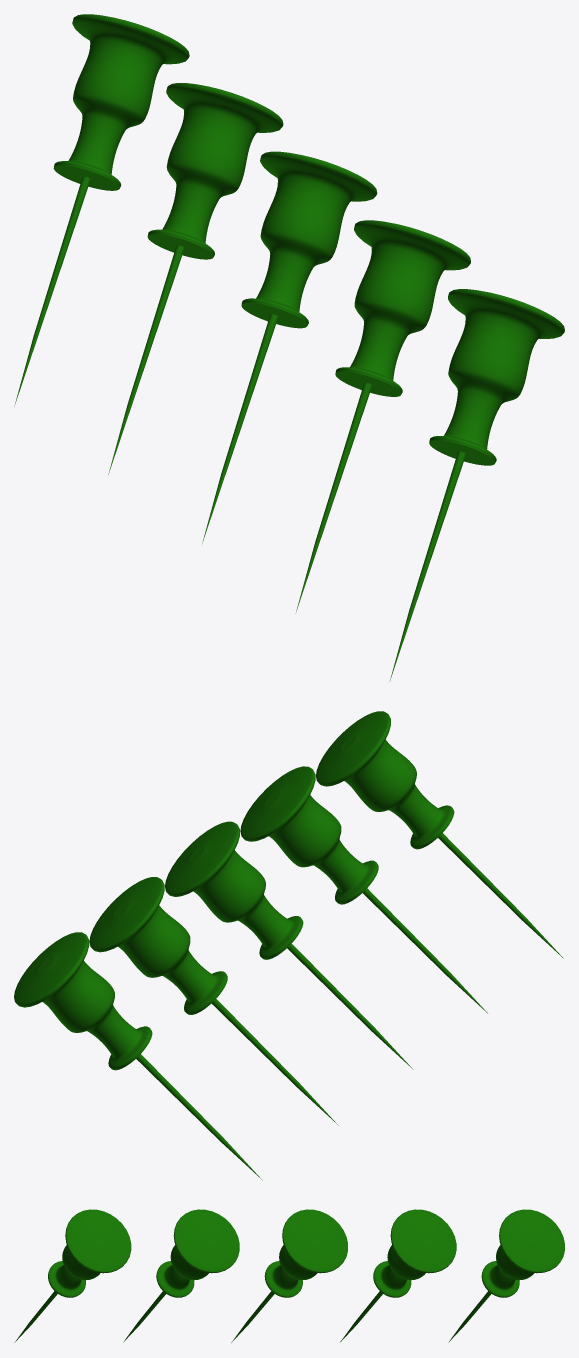
The model's file is Tacks.fbx.
3 views of the same model, one above another, from view 1: azimuth 30°, elevation 25°; view 2: azimuth 150°, elevation 25°; view 3: azimuth 270°, elevation 25° (orthographic). The views are drawn at different scales.
Parts seen in each view (by area): view 1: 01; view 2: 01; view 3: 01.
Boxes of the visible parts, x1,y1,x2,y2 form: 01: (14, 14, 564, 681); 01: (14, 711, 563, 1180); 01: (14, 1209, 564, 1342).
Bounding box in the file's own units: 266 × 333 × 935.
